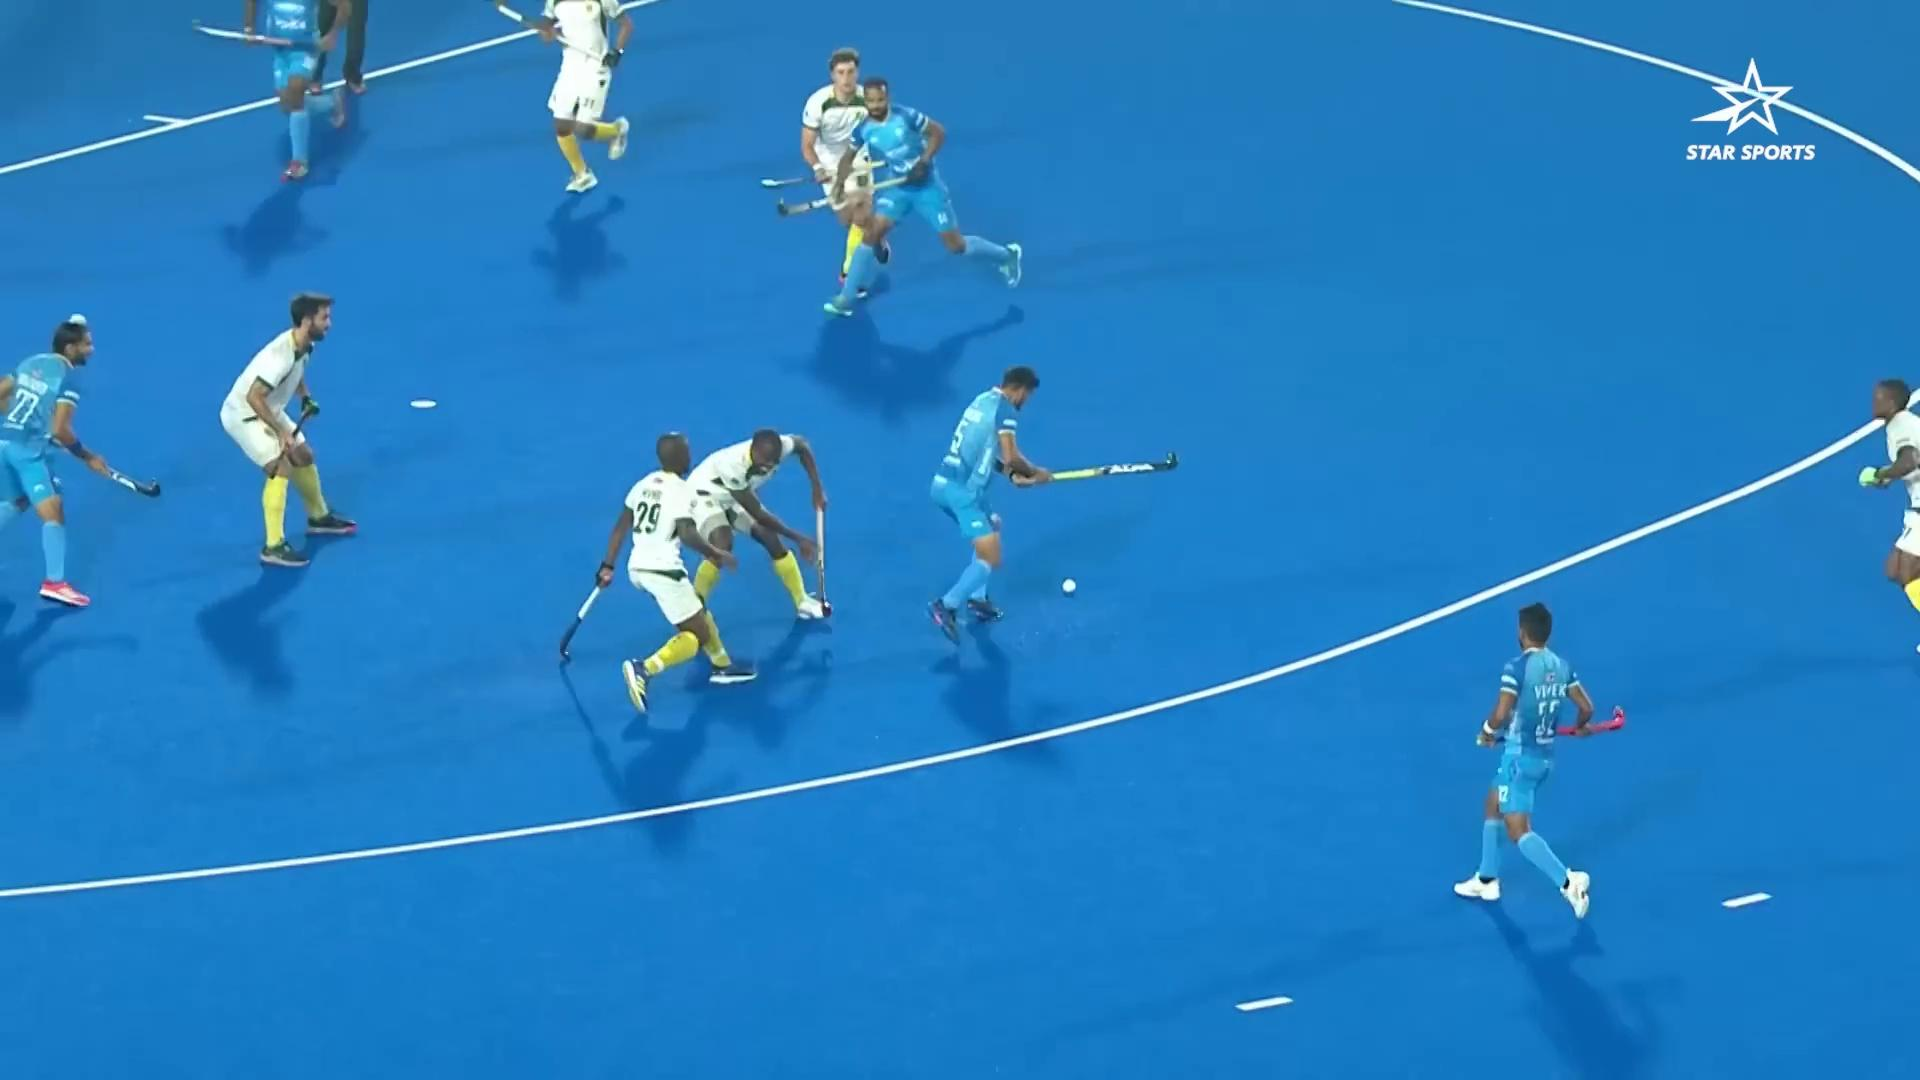ball: (1055, 571, 1085, 604)
